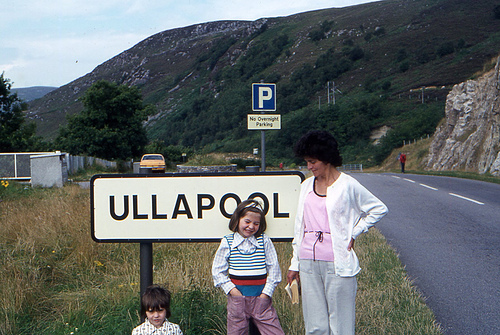without_mask: (303, 152, 336, 179), (236, 208, 262, 237), (145, 302, 168, 328)
